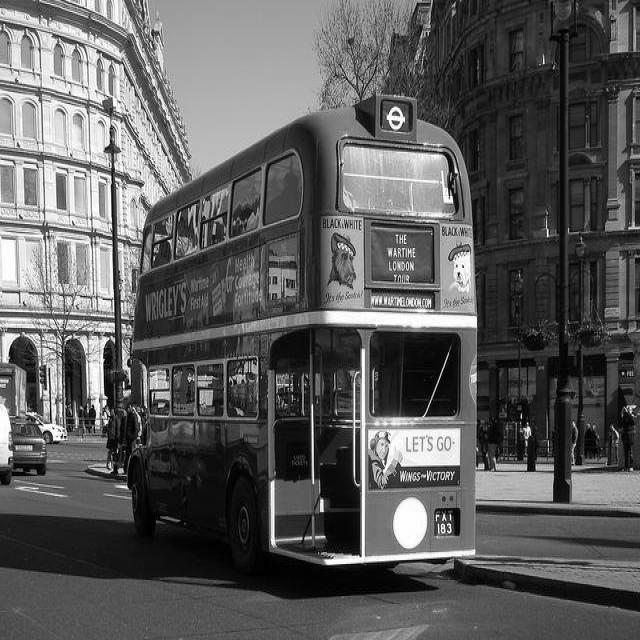vehicle: (126, 98, 481, 587), (10, 420, 48, 474), (0, 363, 28, 417), (25, 413, 68, 445), (0, 404, 14, 486)
